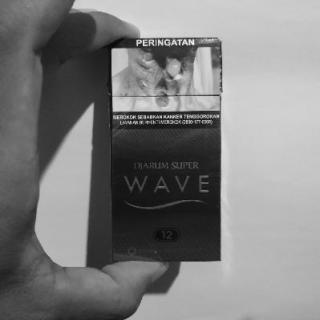objects: (109, 37, 223, 262)
